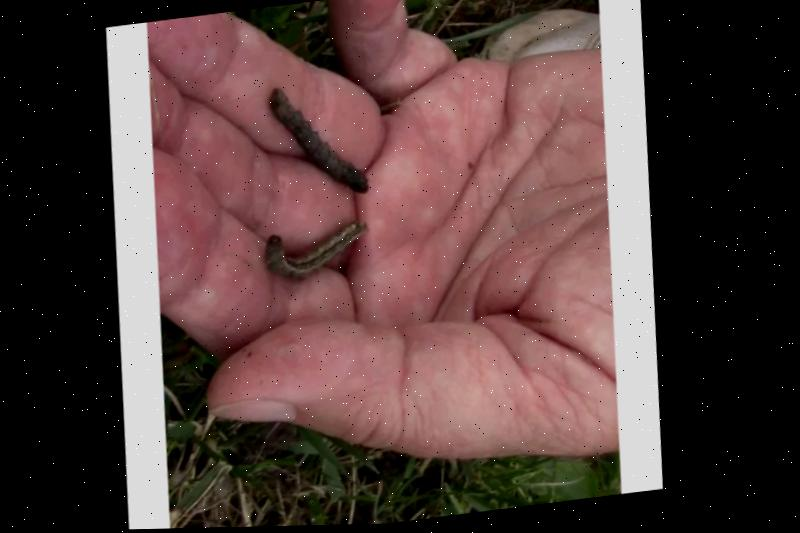fall-armyworm: (271, 89, 373, 195), (270, 222, 370, 281)
